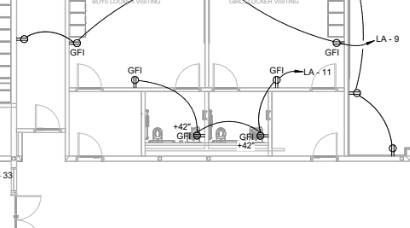door: (32, 103, 61, 132), (310, 62, 340, 90), (76, 61, 103, 92), (310, 130, 340, 157), (172, 62, 201, 89), (76, 131, 104, 158), (211, 62, 240, 88)
